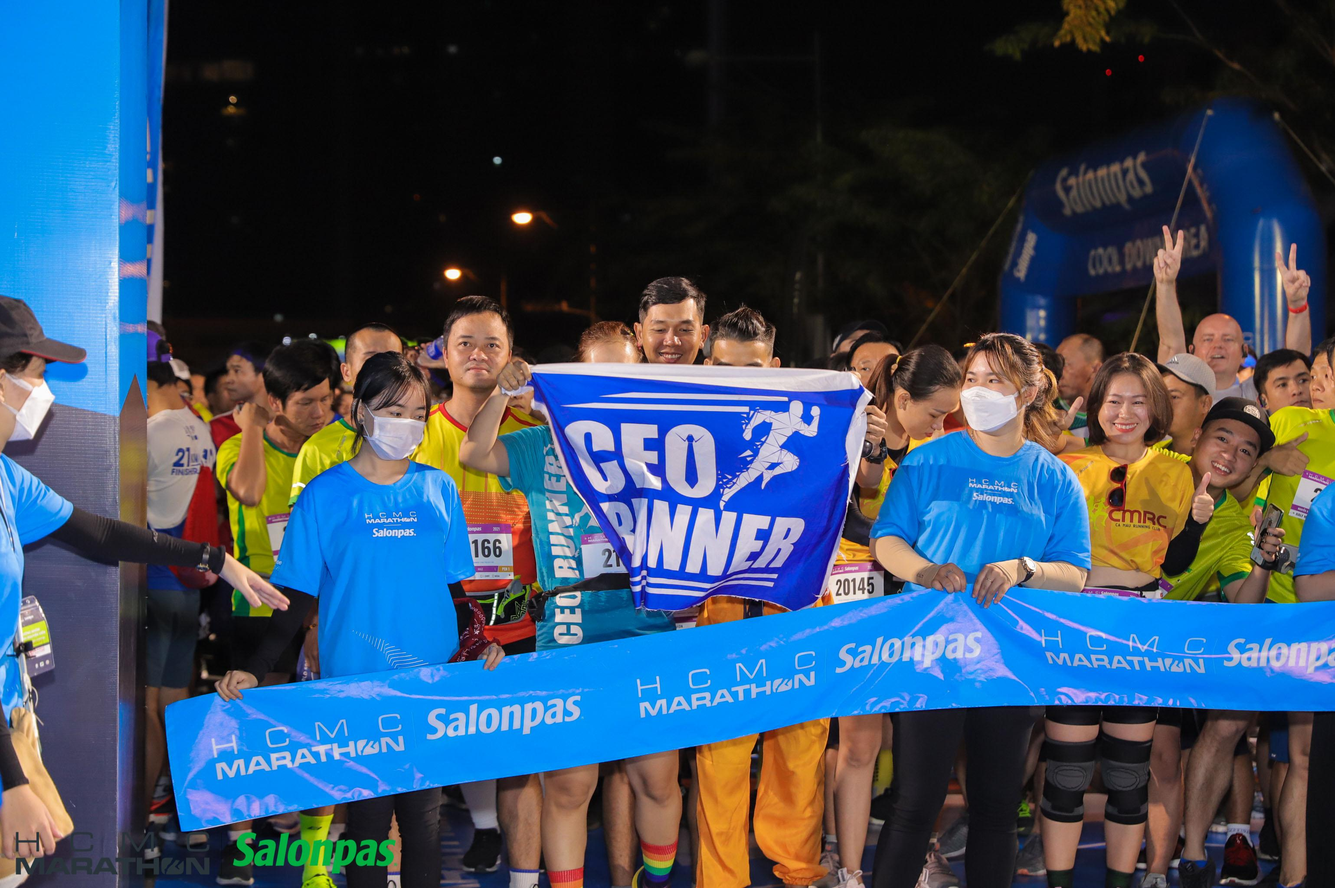bib: (462, 522, 517, 580), (827, 562, 886, 604)
